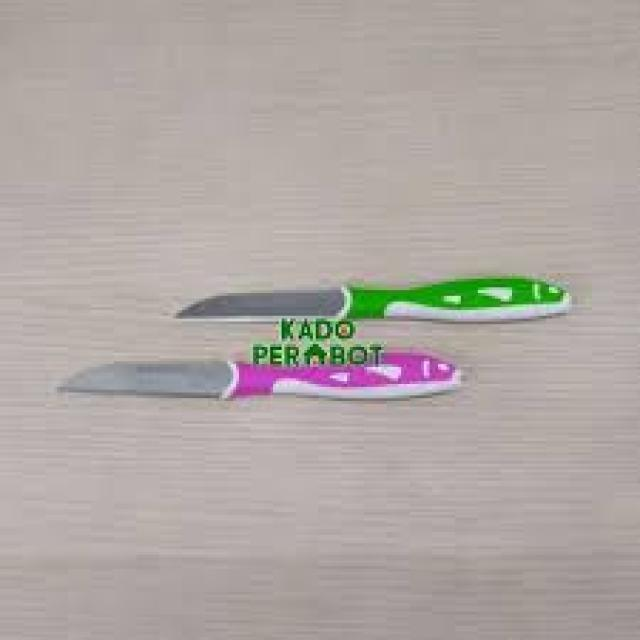Knife: (47, 202, 590, 443)
